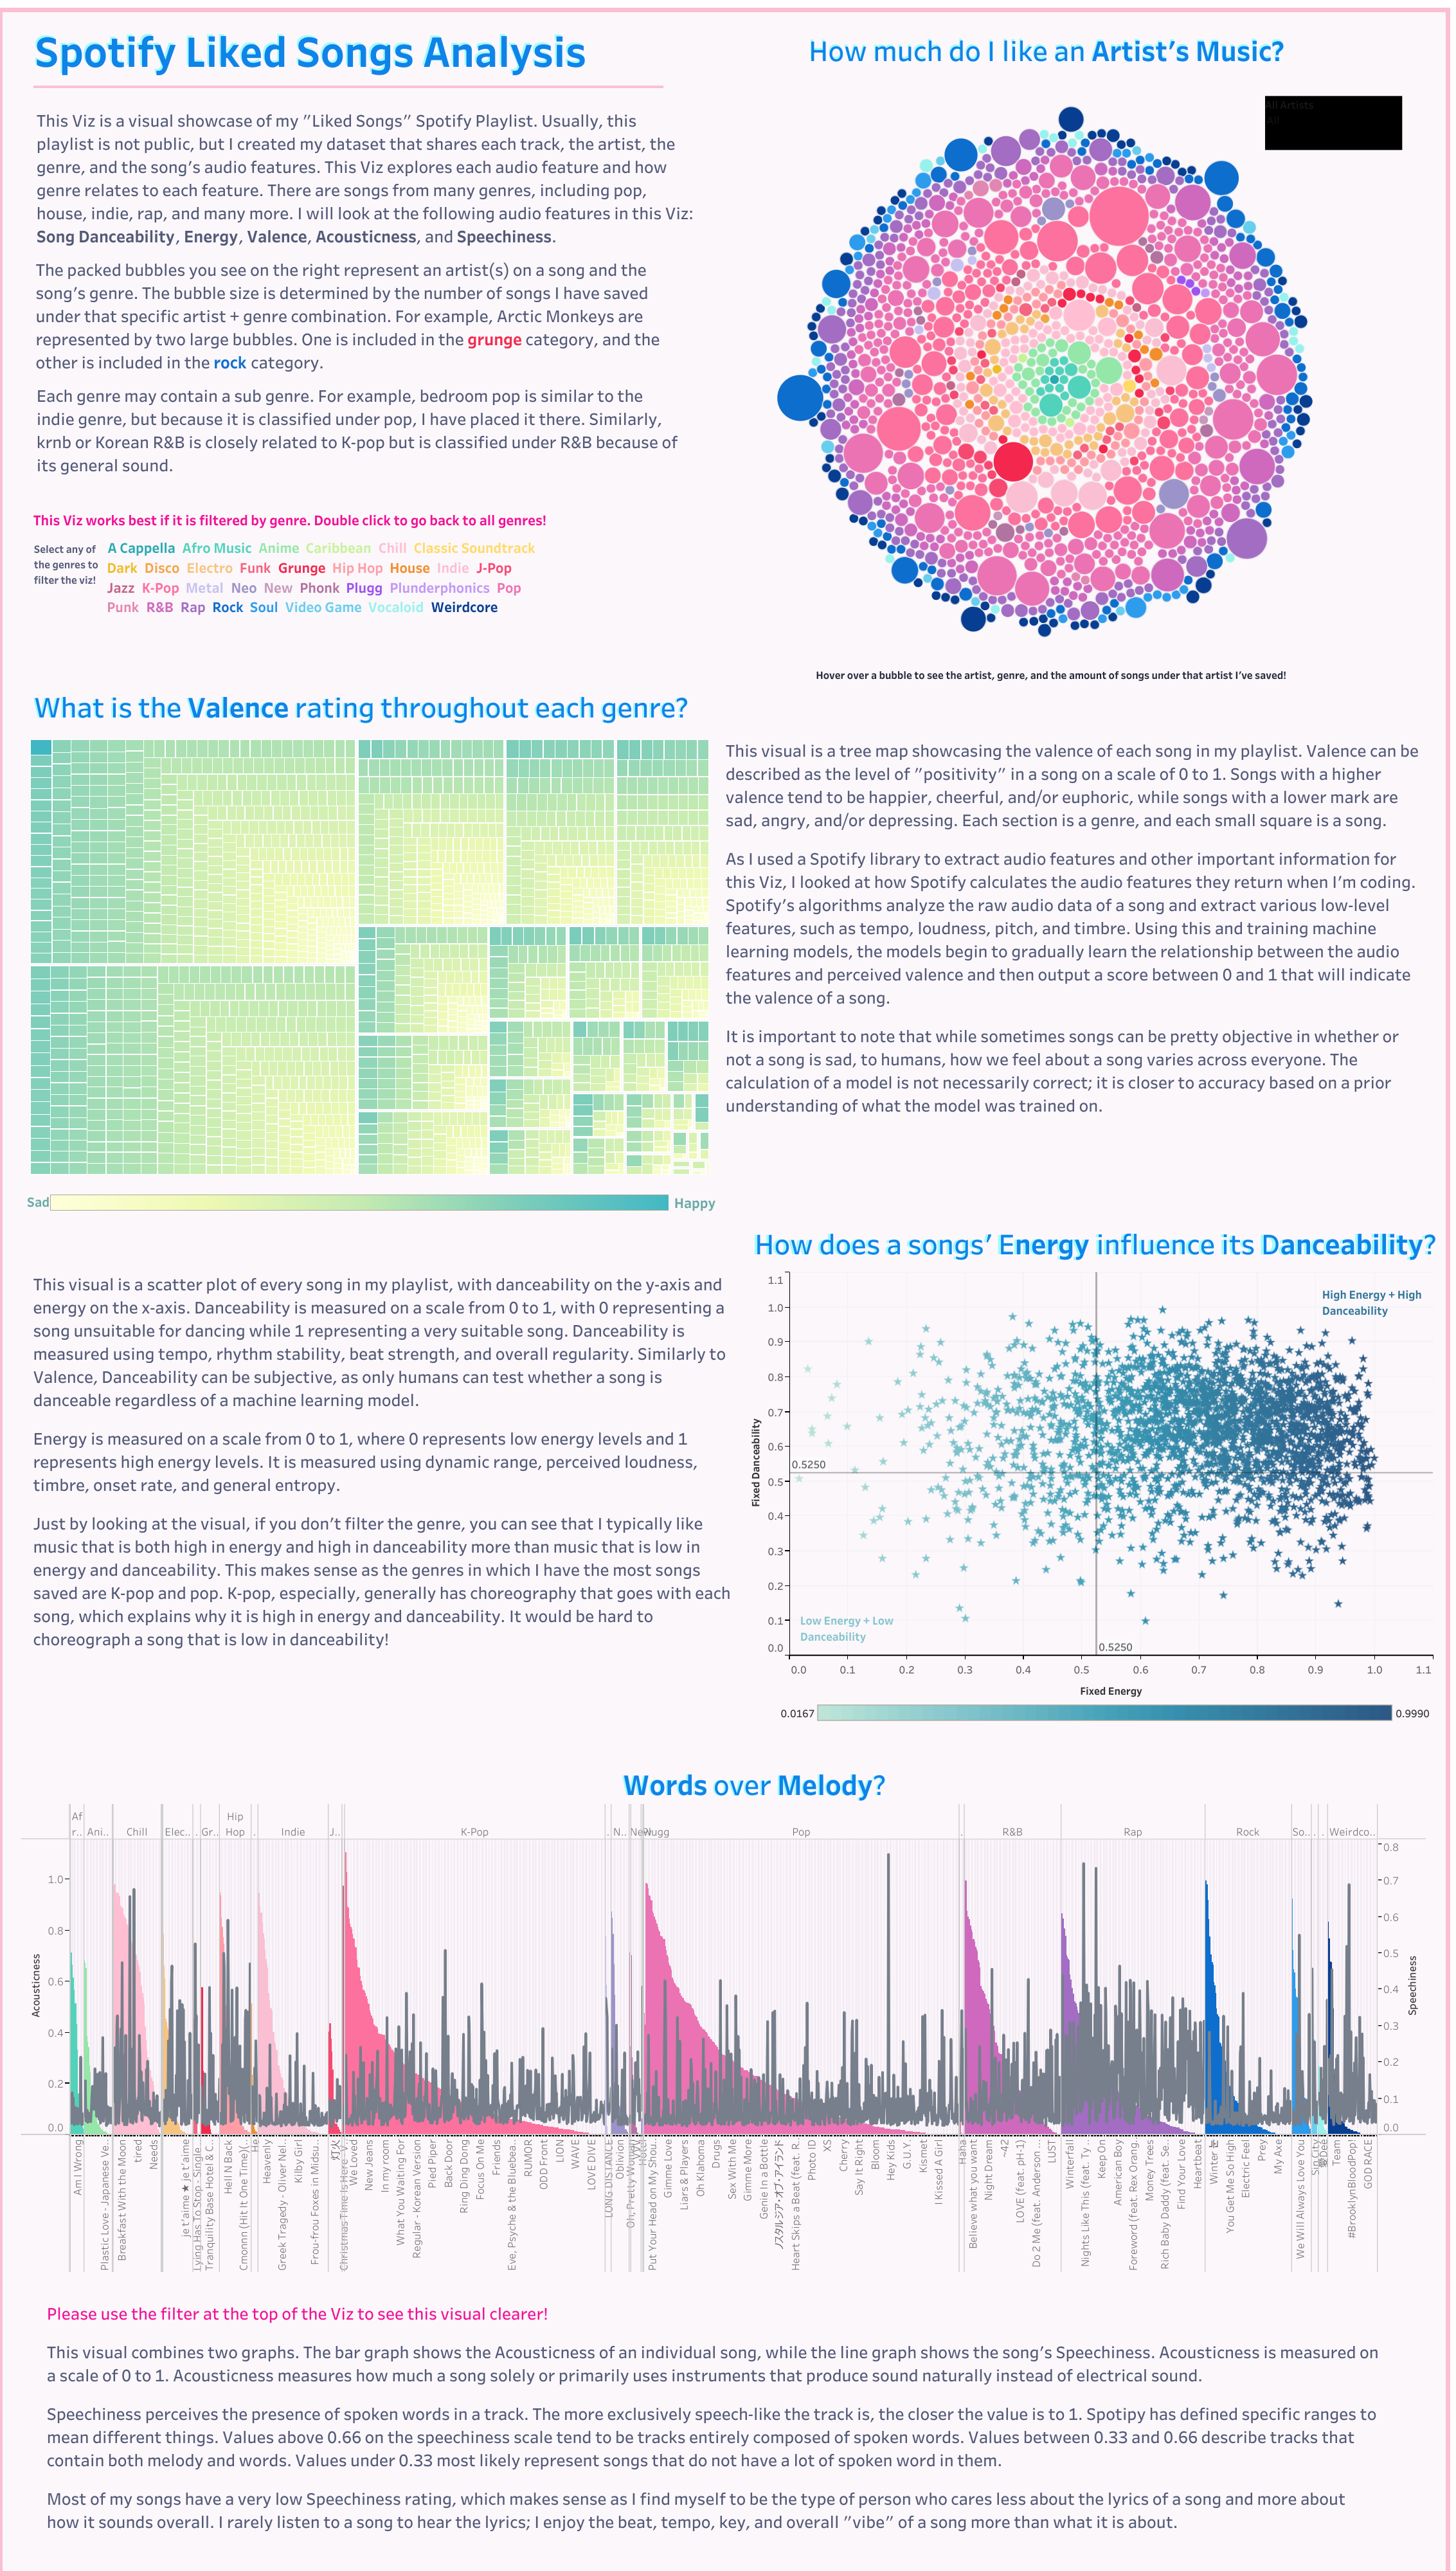

What the dashboard file says about the page in this screenshot:
{"tool":"tableau","page":{"name":"Dashboard 1","canvas":[1700,3000],"ordinal":0},"visuals":[{"type":"text","box":[36,12,682,88]},{"type":"text","box":[38,14,726,88]},{"type":"text","box":[940,22,588,68]},{"type":"text","box":[941,24,576,68]},{"type":"image","param":"Image/Screenshot 2024-07-18 at 1.50.11 PM.png","box":[33,85,850,2]},{"type":"image","param":"Image/Screenshot 2024-08-08 at 1.30.04 PM.png","box":[39,100,735,15]},{"type":"worksheet","title":"Genre + Artist","mark":"Circle","box":[905,100,627,668]},{"type":"text","box":[40,110,772,195]},{"type":"filter","title":"Genre + Artist","param":"[federated.1iud3l10pn130719nk0lc1wx2f7a].[Artist Names (group)]","box":[1476,112,160,63]},{"type":"text","box":[39,281,755,174]},{"type":"text","box":[40,440,760,123]},{"type":"text","box":[36,591,655,30]},{"type":"text","box":[37,602,80,112]},{"type":"worksheet","title":"Filter","mark":"Automatic","box":[118,623,521,111]},{"type":"text","box":[932,772,589,30]},{"type":"text","box":[844,789,823,587]},{"type":"text","box":[35,790,824,68]},{"type":"text","box":[37,790,824,68]},{"type":"worksheet","title":"Valence + Genre + Track","mark":"Automatic","box":[31,858,801,517]},{"type":"text","box":[29,1385,35,32]},{"type":"text","box":[784,1387,51,30]},{"type":"blank","box":[3,1390,52,28]},{"type":"legend","title":"Valence + Genre + Track","param":"[federated.1iud3l10pn130719nk0lc1wx2f7a].[usr:Fixed Danceability (copy)_14707118","box":[19,1390,806,80]},{"type":"blank","box":[780,1391,66,34]},{"type":"text","box":[875,1404,830,92]},{"type":"text","box":[878,1404,830,92]},{"type":"text","box":[36,1483,820,443]},{"type":"worksheet","title":"Danceability + Energy","mark":"Shape","rows":["Calculation_1055581168582749"],"cols":["Calculation_1055581169537118"],"box":[865,1484,807,504]},{"type":"text","box":[1540,1489,152,59]},{"type":"text","box":[931,1862,165,74]},{"type":"legend","title":"Danceability + Energy","param":"[federated.1iud3l10pn130719nk0lc1wx2f7a].[usr:Calculation_1055581169537118:qk]","box":[907,1985,766,53]},{"type":"text","box":[722,2019,330,123]},{"type":"text","box":[724,2059,312,44]},{"type":"worksheet","title":"Speechiness + Acousticness","mark":"Bar","rows":["acousticness","speechiness"],"cols":["track_name"],"box":[25,2105,1639,546]},{"type":"text","box":[52,2661,1559,335]}]}

Visuals, with their boxes in screenshot pixels (x1, y1, x2, y2), scaled from the page's 1700x3000 canvas onto the 1456x2571 screenshot:
text: crop(31, 10, 615, 86)
text: crop(33, 12, 654, 87)
text: crop(805, 19, 1309, 77)
text: crop(806, 21, 1299, 79)
image: crop(28, 73, 756, 75)
image: crop(33, 86, 663, 98)
"Genre + Artist" worksheet (Circle marks): crop(775, 86, 1312, 658)
text: crop(34, 95, 696, 262)
"Genre + Artist" filter: crop(1264, 96, 1401, 150)
text: crop(33, 241, 680, 390)
text: crop(34, 377, 685, 482)
text: crop(31, 507, 592, 532)
text: crop(31, 516, 100, 612)
"Filter" worksheet: crop(101, 534, 547, 629)
text: crop(798, 662, 1303, 687)
text: crop(723, 676, 1428, 1179)
text: crop(30, 677, 735, 735)
text: crop(31, 677, 737, 735)
"Valence + Genre + Track" worksheet: crop(26, 735, 713, 1178)
text: crop(25, 1187, 55, 1214)
text: crop(672, 1189, 715, 1214)
blank: crop(3, 1191, 47, 1215)
"Valence + Genre + Track" legend: crop(16, 1191, 706, 1260)
blank: crop(668, 1192, 724, 1222)
text: crop(750, 1204, 1455, 1282)
text: crop(752, 1204, 1455, 1282)
text: crop(31, 1271, 733, 1650)
"Danceability + Energy" worksheet (Shape marks): crop(741, 1272, 1432, 1704)
text: crop(1319, 1276, 1449, 1326)
text: crop(797, 1596, 939, 1659)
"Danceability + Energy" legend: crop(777, 1701, 1433, 1747)
text: crop(618, 1730, 901, 1836)
text: crop(620, 1765, 887, 1802)
"Speechiness + Acousticness" worksheet (Bar marks): crop(21, 1804, 1425, 2272)
text: crop(44, 2280, 1380, 2568)
